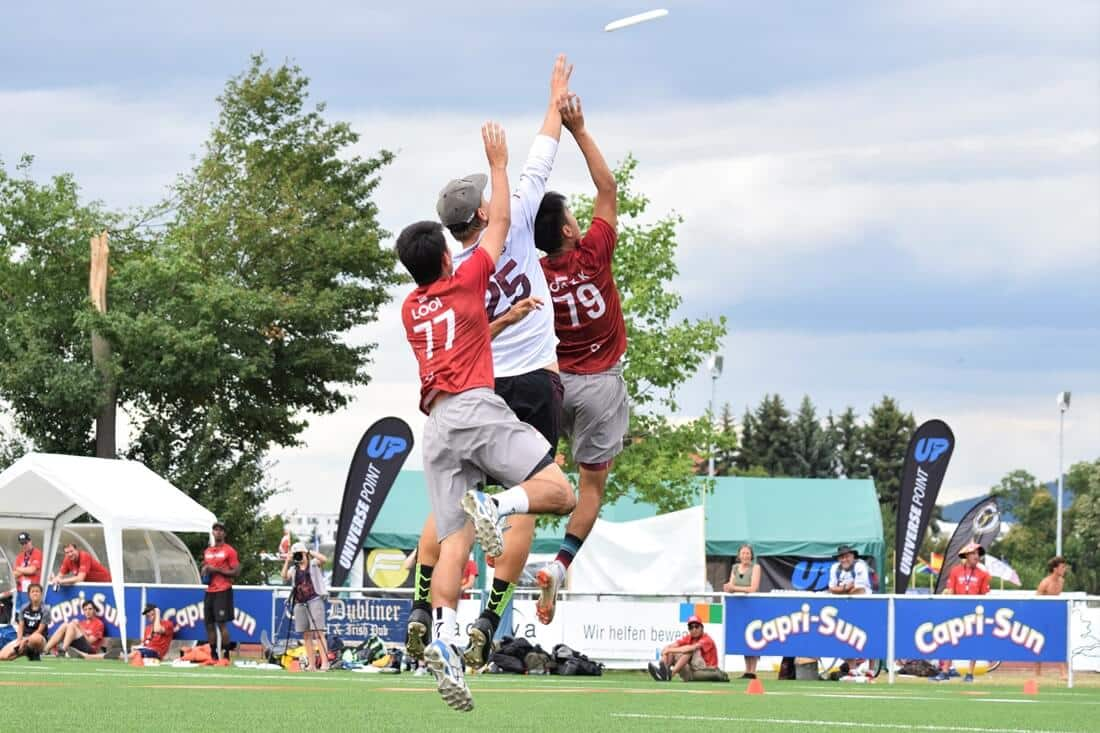disc: (600, 5, 677, 38)
